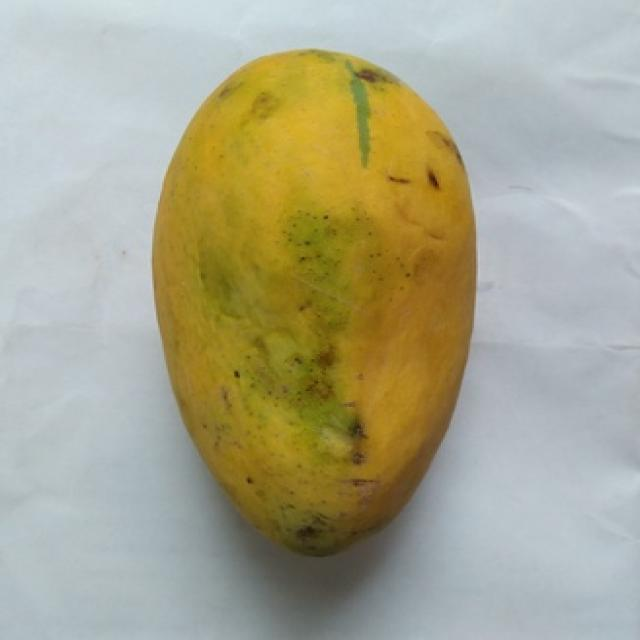Mango: (154, 49, 474, 554)
